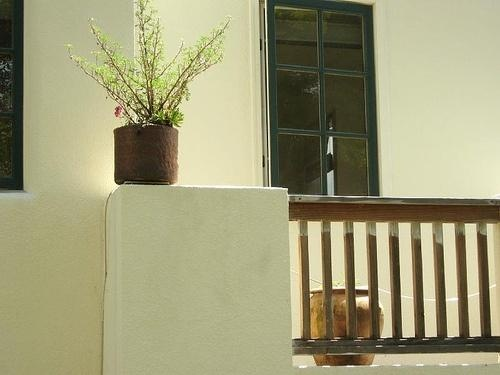pottedplant: (59, 2, 236, 187), (305, 276, 386, 370)
